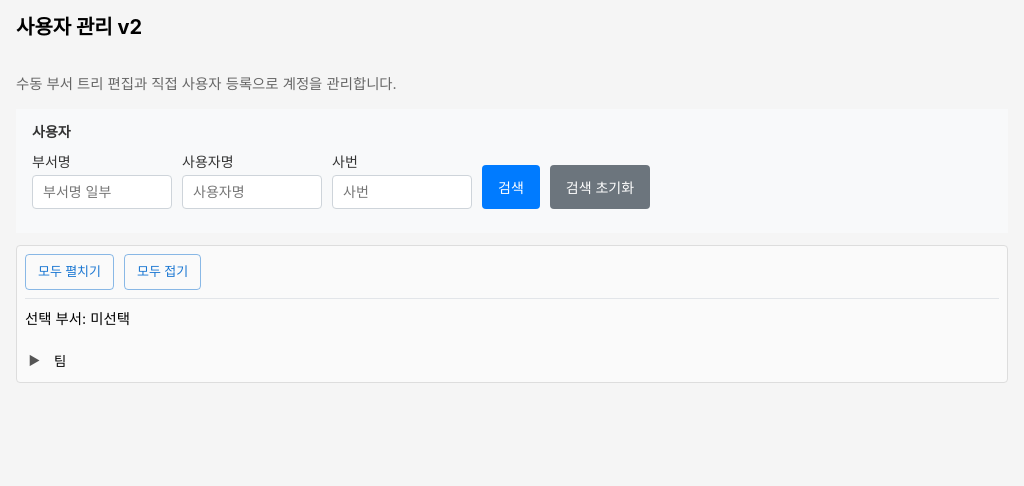
Scenario: UserManagement › req 20260408 grid search: TC-05 employee number filter › filters by 사번 substring
Check: the button "팀" is shown, box [47,348,73,374]
Type "990" into the field named "사번 필터" at (402, 192), box [332,175,472,209]
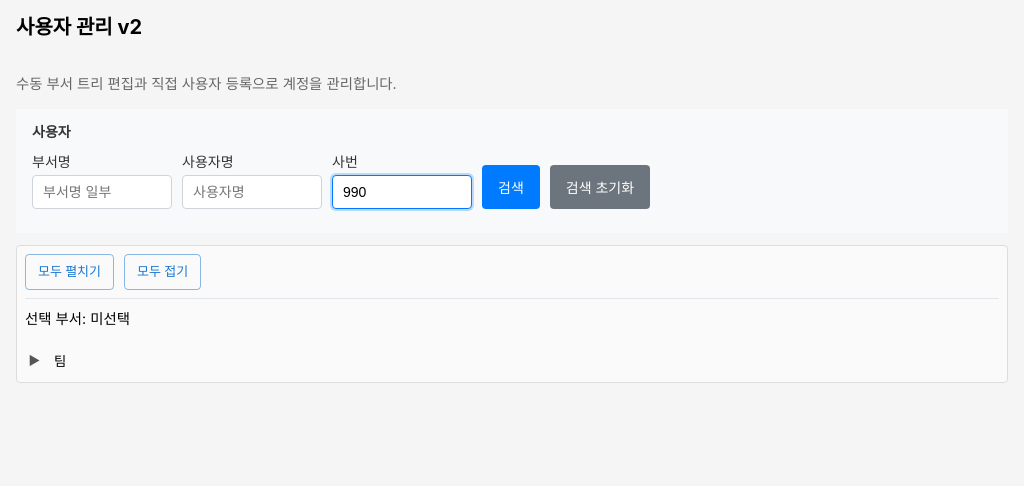
Click the button "검색" at (511, 187), box [482,165,540,209]
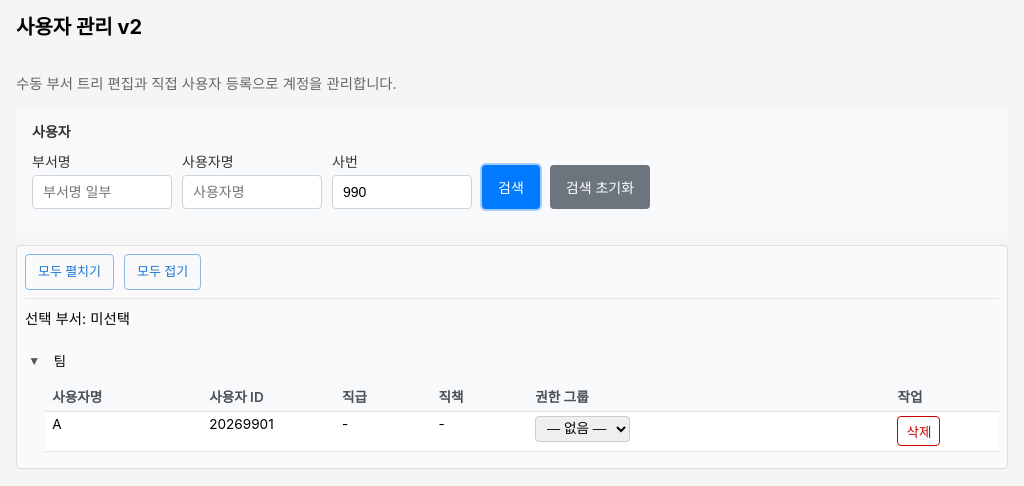
Check: the text "20269901" is shown, box [202,411,335,451]
